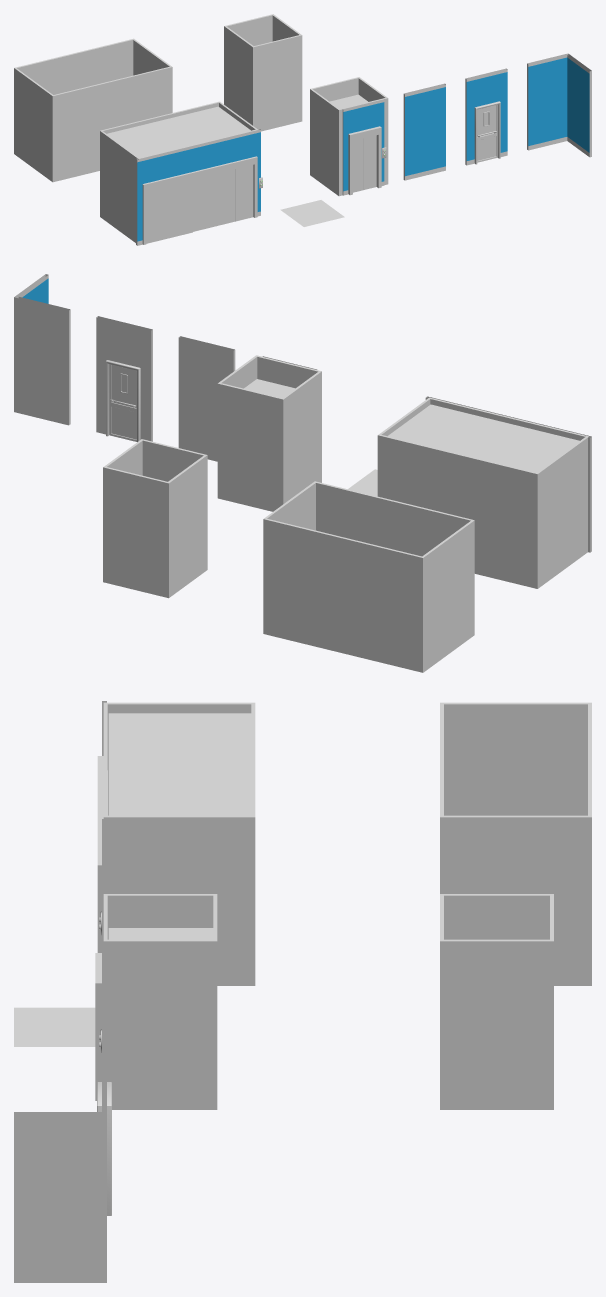
Rendered from SegmentedBuilding.fbx.
3 renders of one model, top to bottom at view 1: azimuth 30°, elevation 25°; view 2: azimuth 150°, elevation 25°; view 3: azimuth 270°, elevation 25°, orthographic. The views are drawn at different scales.
Visible parts, largest first — view 1: ElevatorShaftBig2, ElevatorShaft2, CornerSegment, ElevatorShaft, ElevatorShaftBig, ElevatorSegment2, WallSegment, Elevator, OutsideElevetor2DoorLeft, DoorSegment, OutsideElevetor2DoorCenter, ElevatorSegment1 (+8 smaller); view 2: ElevatorShaftBig2, ElevatorShaftBig, ElevatorShaft2, ElevatorShaft, CornerSegment, Elevator, WallSegment, DoorSegment, Door1, DoorFrame1, ElevatorSegment2, Elevator.001; view 3: ElevatorShaftBig2, ElevatorShaft2, ElevatorShaft, ElevatorShaftBig, CornerSegment, Elevator, FloorSegment, Elevator.001, ElevatorFrame, ElevtorFrame, DoorFrame1.
Part boxes in pixels (x1=…): ElevatorShaftBig2: x1=14, y1=38, x2=172, y2=182; ElevatorShaft2: x1=224, y1=14, x2=302, y2=131; CornerSegment: x1=527, y1=53, x2=591, y2=157; ElevatorShaft: x1=310, y1=77, x2=388, y2=196; ElevatorShaftBig: x1=100, y1=101, x2=258, y2=242; ElevatorSegment2: x1=136, y1=128, x2=260, y2=245; WallSegment: x1=403, y1=83, x2=445, y2=180; Elevator: x1=107, y1=106, x2=250, y2=157; OutsideElevetor2DoorLeft: x1=146, y1=179, x2=192, y2=243; DoorSegment: x1=465, y1=68, x2=507, y2=165; OutsideElevetor2DoorCenter: x1=193, y1=169, x2=235, y2=231; ElevatorSegment1: x1=342, y1=99, x2=384, y2=195; ElevatorShaftBig2: x1=263, y1=481, x2=474, y2=672; ElevatorShaftBig: x1=377, y1=397, x2=589, y2=588; ElevatorShaft2: x1=103, y1=439, x2=207, y2=598; ElevatorShaft: x1=217, y1=355, x2=321, y2=511; CornerSegment: x1=14, y1=274, x2=70, y2=425; Elevator: x1=388, y1=404, x2=579, y2=472; WallSegment: x1=178, y1=336, x2=235, y2=461; DoorSegment: x1=96, y1=316, x2=152, y2=441; Door1: x1=109, y1=364, x2=136, y2=441; DoorFrame1: x1=106, y1=360, x2=140, y2=441; ElevatorSegment2: x1=425, y1=396, x2=591, y2=552; Elevator.001: x1=244, y1=379, x2=294, y2=397; ElevatorShaftBig2: x1=440, y1=702, x2=591, y2=985; ElevatorShaft2: x1=440, y1=894, x2=553, y2=1109; ElevatorShaft: x1=103, y1=894, x2=217, y2=1109; ElevatorShaftBig: x1=103, y1=702, x2=255, y2=985; CornerSegment: x1=14, y1=1075, x2=106, y2=1282; Elevator: x1=108, y1=713, x2=251, y2=815; FloorSegment: x1=14, y1=1007, x2=95, y2=1046; Elevator.001: x1=108, y1=928, x2=213, y2=939; ElevatorFrame: x1=97, y1=756, x2=103, y2=952; ElevtorFrame: x1=95, y1=953, x2=101, y2=1100; DoorFrame1: x1=97, y1=1082, x2=111, y2=1215.
Size of the model in its own units: 993 by 1680 by 320.
